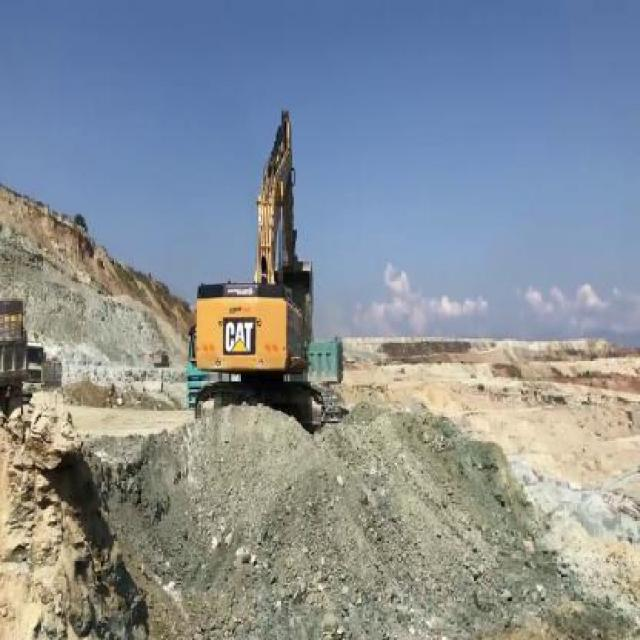Dump Truck: (185, 324, 342, 414)
Excavator: (195, 108, 339, 424)
